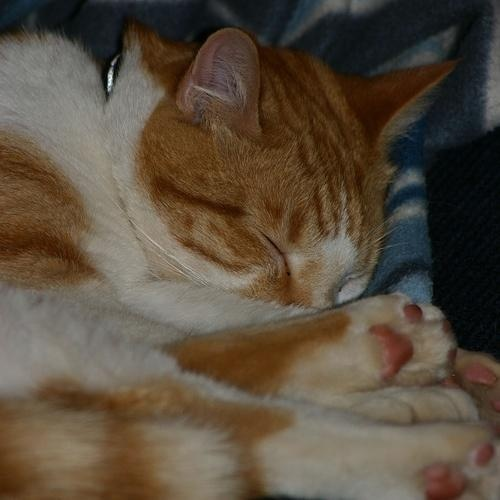cat: (2, 23, 498, 498)
